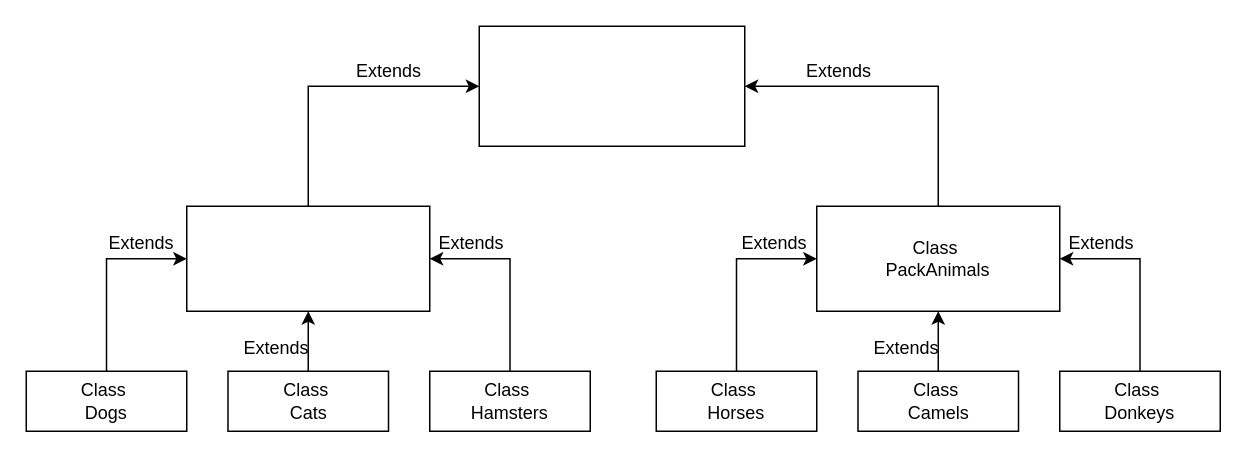
This 1247x458 diagram has some shape labels left out. The box of each missing label's shape, as (x1, y1, x2, y2) in pixels:
Class Animals: (478, 25, 745, 146)
Class Pets: (185, 205, 430, 311)
